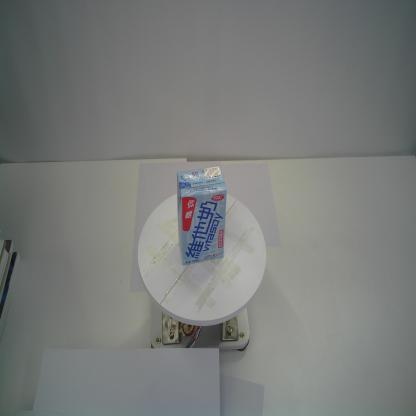Milk: (176, 165, 228, 266)
